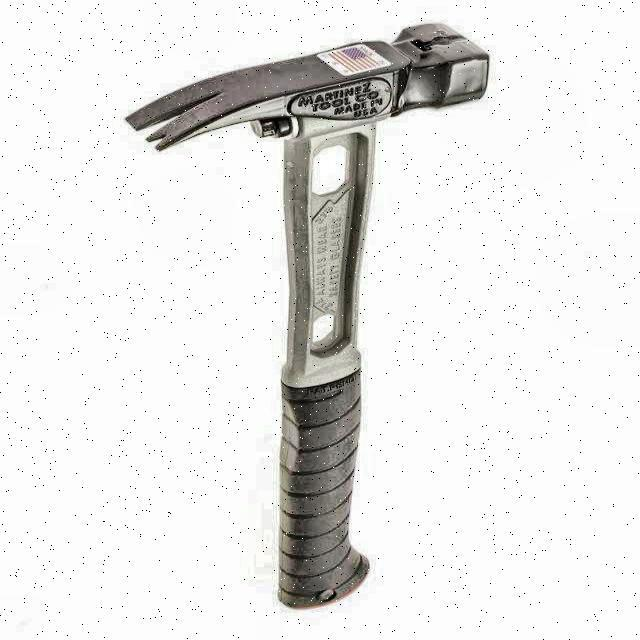hammer: (120, 21, 493, 608)
